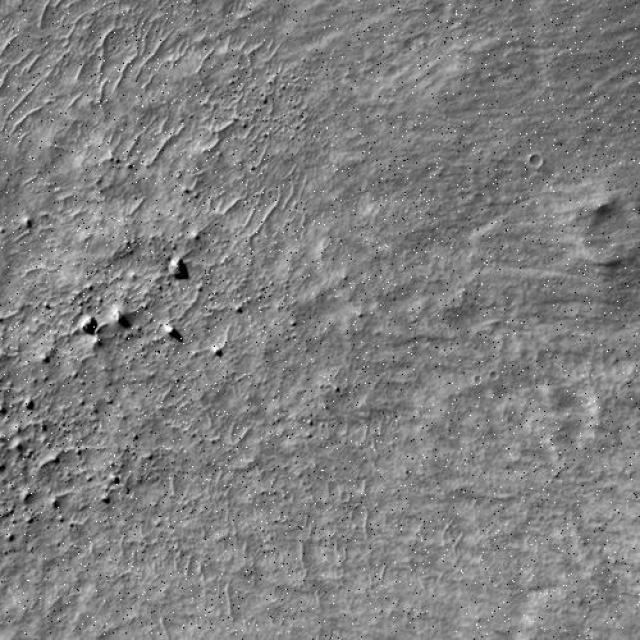crater: (573, 195, 640, 270)
